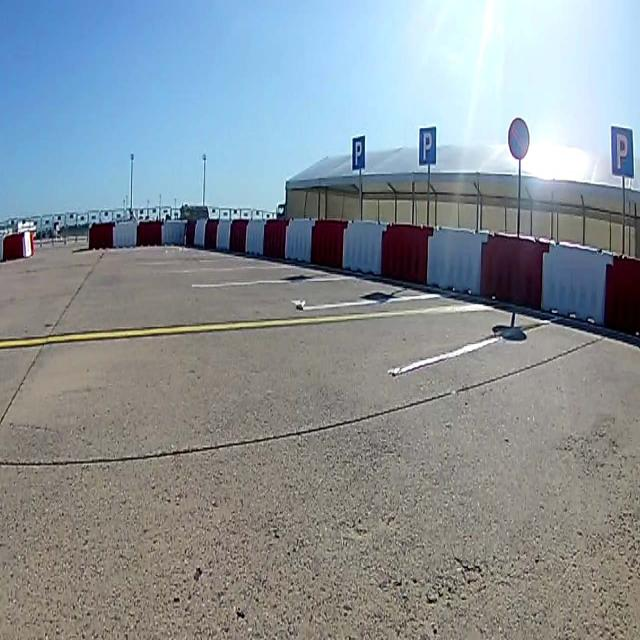park: (611, 126, 633, 174), (419, 127, 436, 164), (352, 135, 365, 170)
parkyasak: (509, 118, 531, 160)
